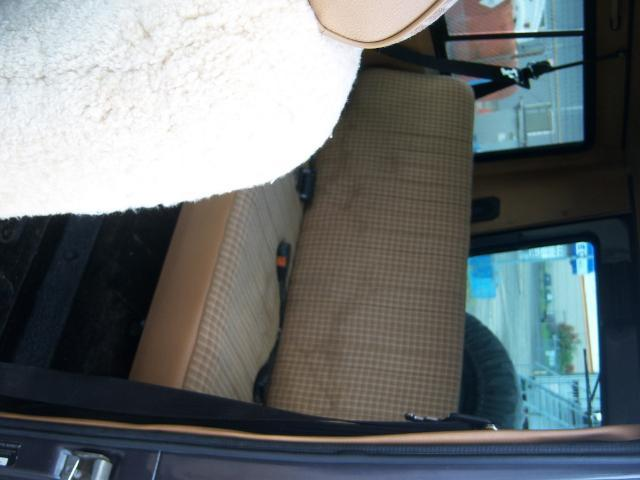Seatbelt: (0, 364, 492, 430)
